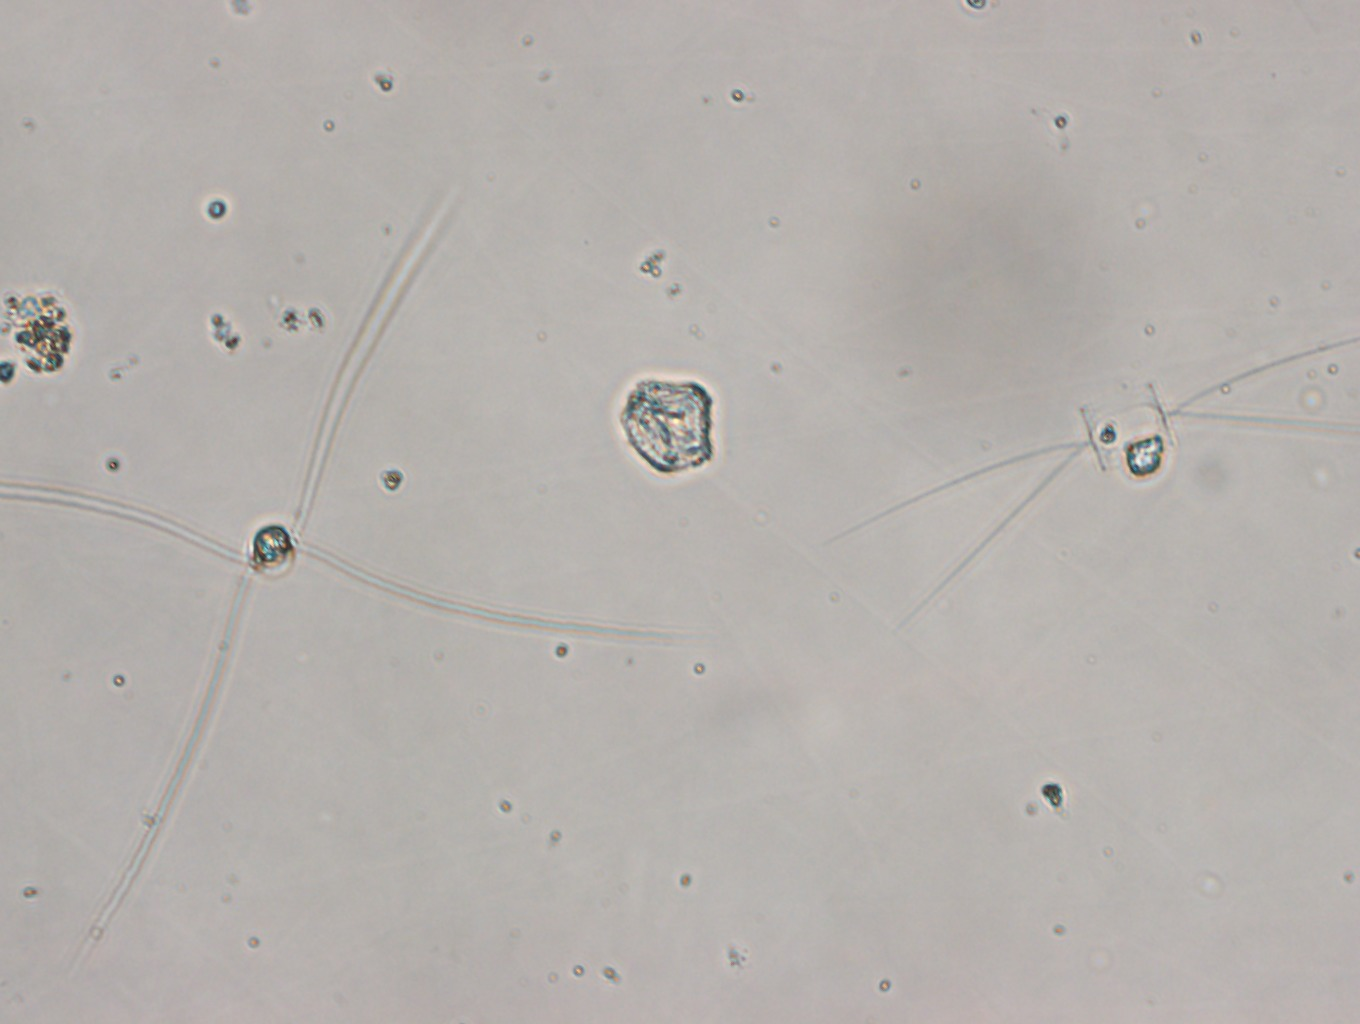chaetoceros: (1, 175, 708, 965), (828, 343, 1360, 622)
